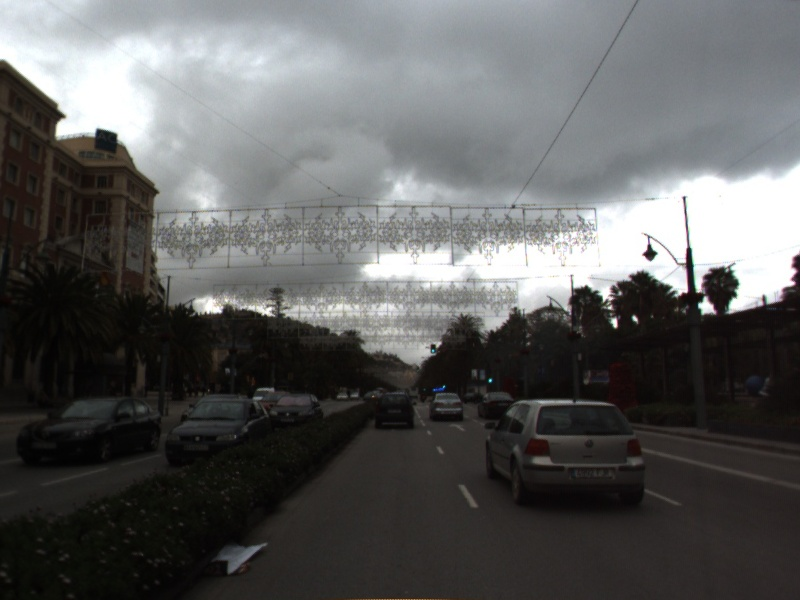STRAIGHT: (446, 420, 469, 433)
